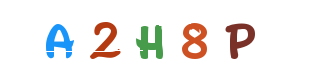2: (110, 0, 190, 80)
8: (118, 0, 198, 80)
A: (18, 0, 98, 80)
H: (116, 0, 196, 80)
P: (199, 0, 279, 80)
